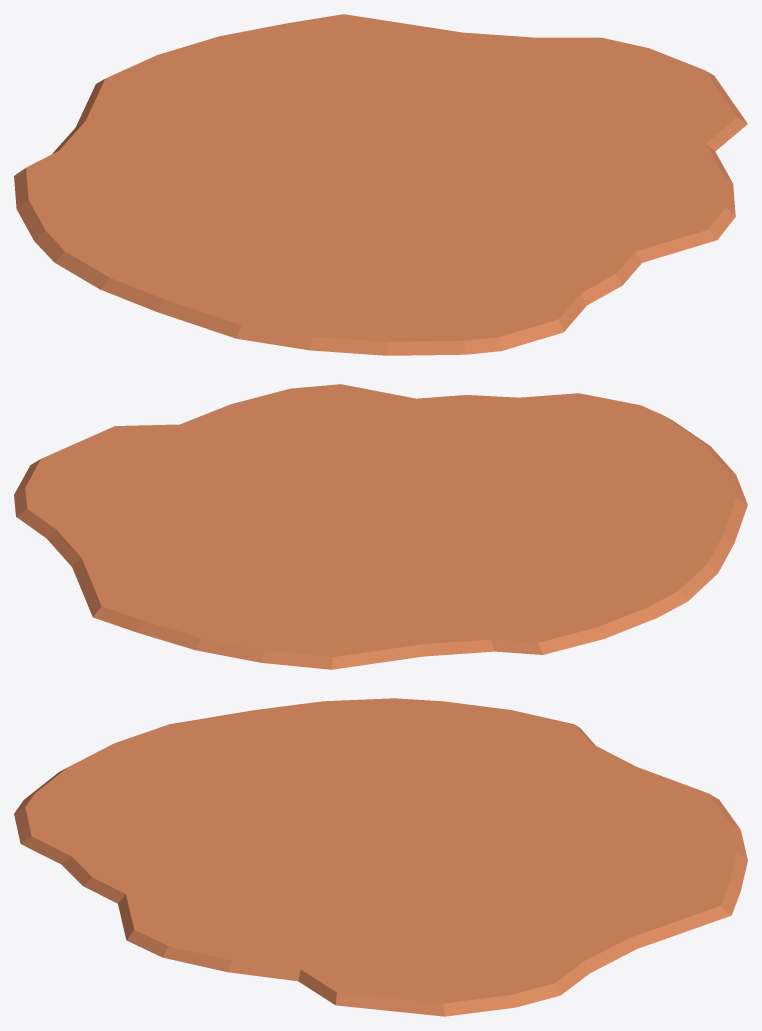
The model's file is lave.fbx.
3 views of the same model, one above another, from view 1: azimuth 30°, elevation 25°; view 2: azimuth 150°, elevation 25°; view 3: azimuth 270°, elevation 25° (orthographic). The views are drawn at different scales.
Visible parts, largest first — view 1: Circle; view 2: Circle; view 3: Circle.
Part boxes in pixels (x1,y1,x2,y2): Circle: (14,14,747,355); Circle: (14,384,747,669); Circle: (14,698,747,1016).
Size of the model in its own units: 14.69 by 0.1771 by 14.47.
